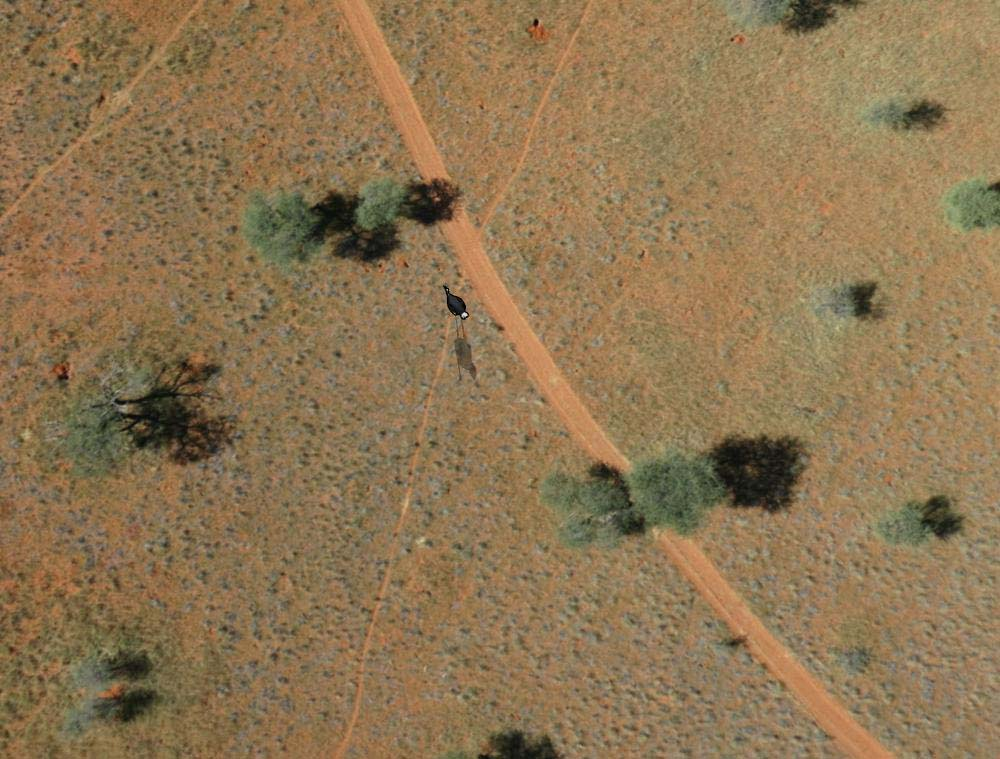ostrich: (437, 283, 474, 322)
